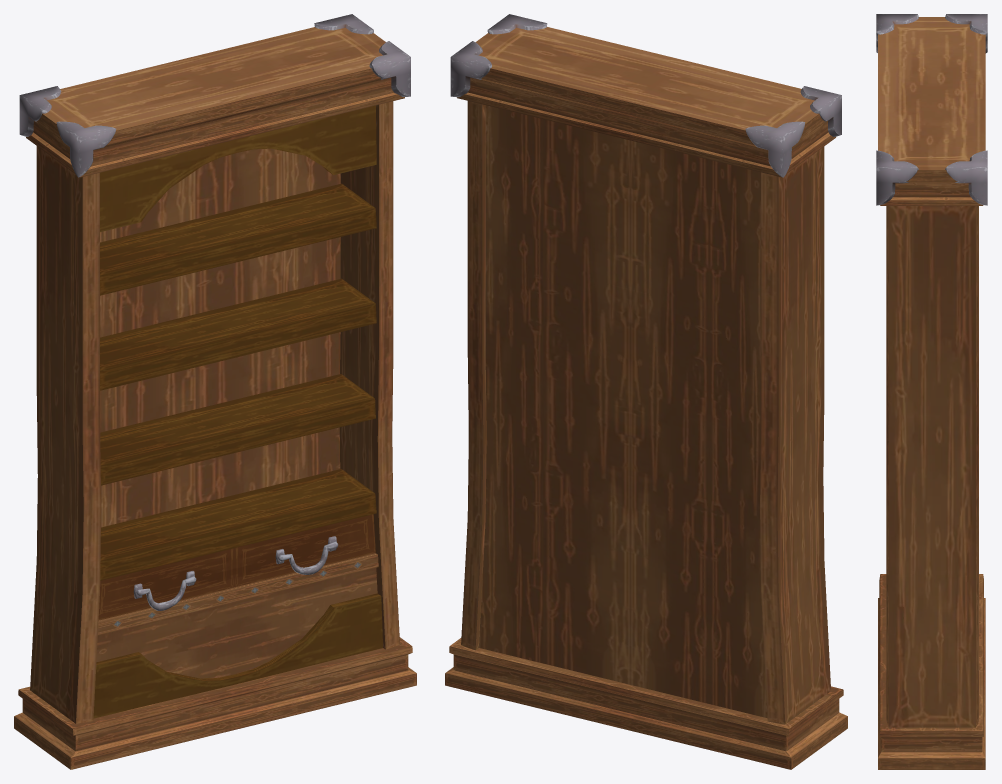
Rendered from Bookcase_2.glb.
3 renders of one model, left to right at view 1: azimuth 30°, elevation 25°; view 2: azimuth 150°, elevation 25°; view 3: azimuth 270°, elevation 25°, orthographic. The views are drawn at different scales.
Parts seen in each view (by area): view 1: Bookcase_2; view 2: Bookcase_2; view 3: Bookcase_2.
Part boxes in pixels (bbox=[...]): Bookcase_2: bbox=[14, 14, 416, 769]; Bookcase_2: bbox=[445, 14, 847, 769]; Bookcase_2: bbox=[876, 14, 987, 769].
Size of the model in its own units: 1.46 by 2.54 by 0.429.
Materials: 2 (2 with a texture image).
